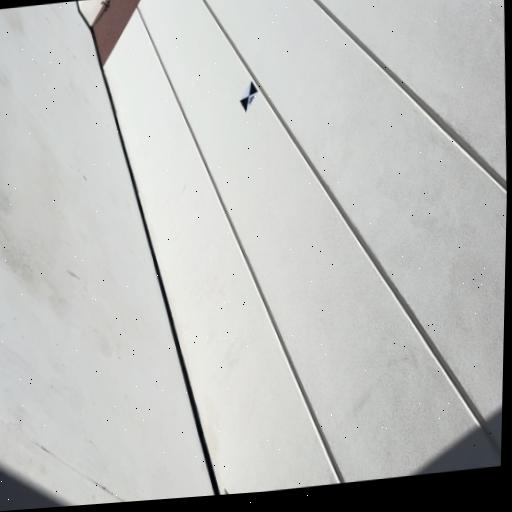target4: (239, 81, 258, 112)
